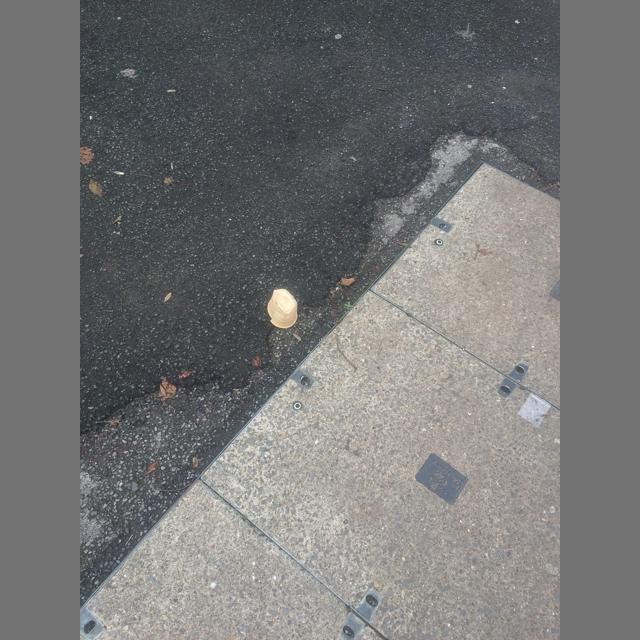litter: (267, 289, 298, 328)
